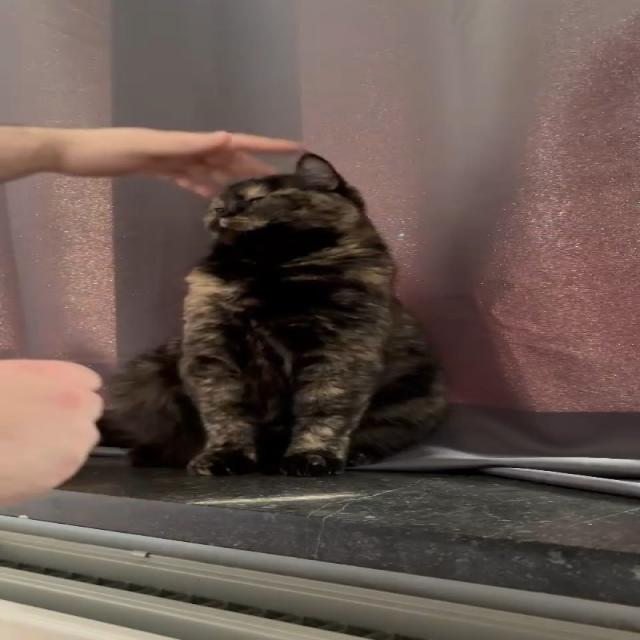authorized: (95, 151, 449, 477)
